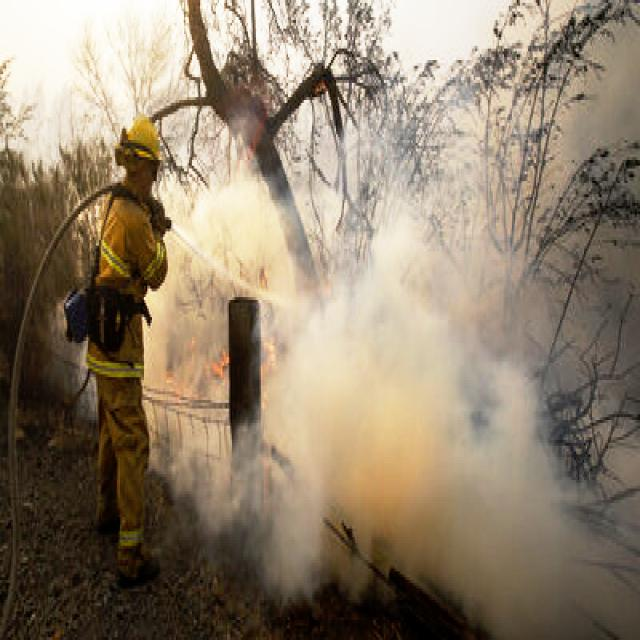api: (214, 342, 233, 382), (264, 338, 282, 375)
asap: (133, 168, 640, 639), (1, 1, 142, 195)
